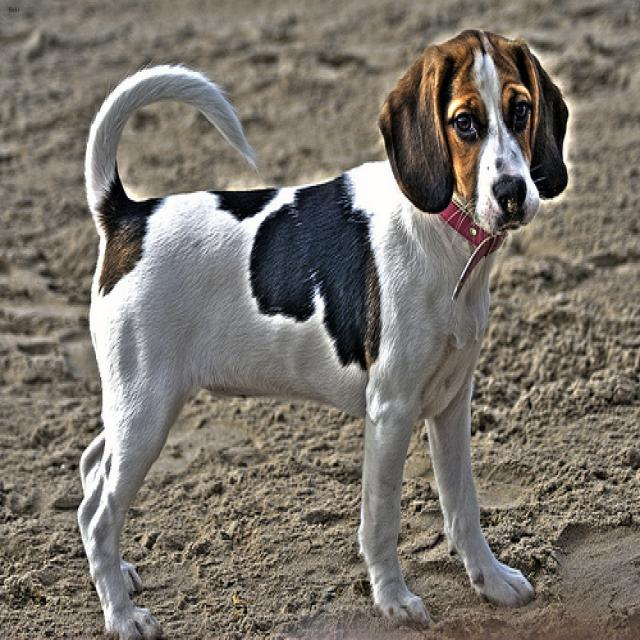dog-beagle: (70, 19, 577, 636)
